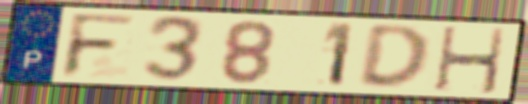1: (321, 21, 357, 90)
3: (140, 13, 206, 85)
8: (220, 18, 279, 85)
D: (354, 23, 433, 92)
F: (57, 11, 140, 80)
H: (432, 25, 508, 96)
